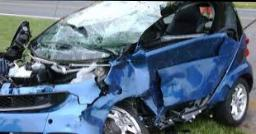Bonnet: (0, 50, 113, 114)
Bumper: (0, 113, 80, 134)
Door: (134, 1, 238, 117)
Fender: (79, 53, 150, 132)
Windshield: (29, 1, 177, 60)
